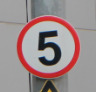speed_limit_5: (16, 15, 80, 78)
